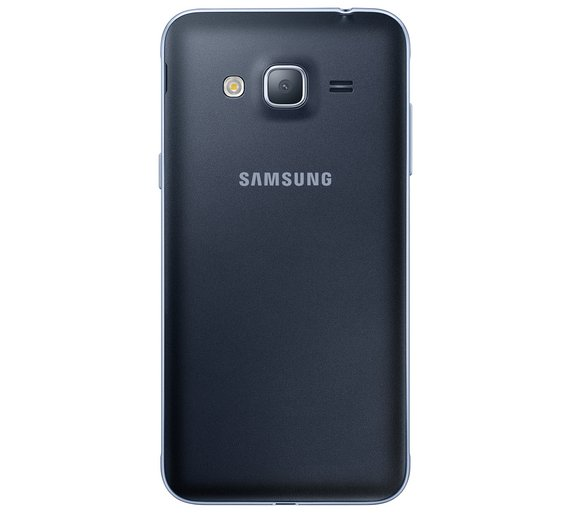mobile: (162, 4, 412, 506)
